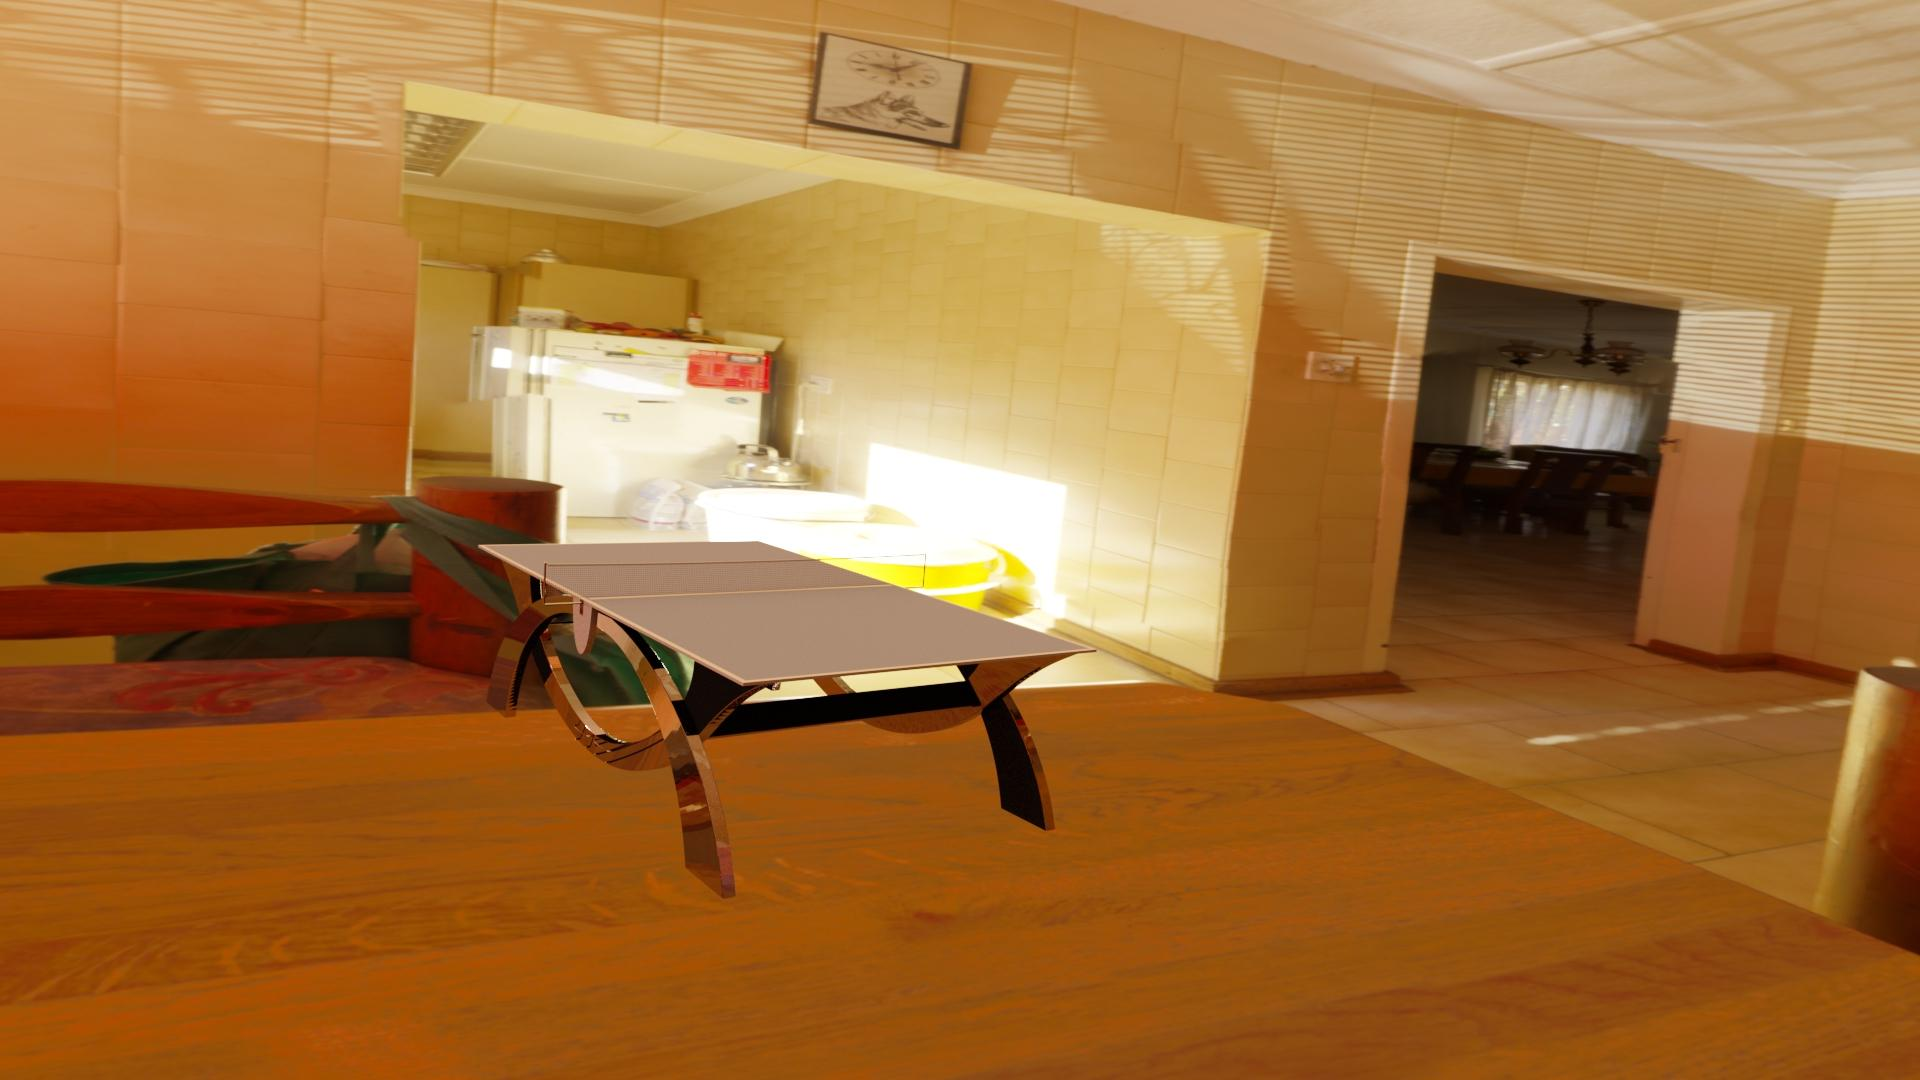table: (484, 541, 1089, 680)
